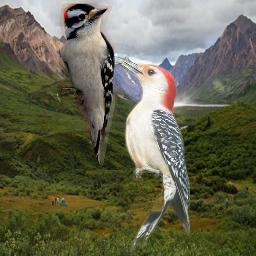Woodpecker: (112, 56, 190, 251), (57, 3, 115, 165)
